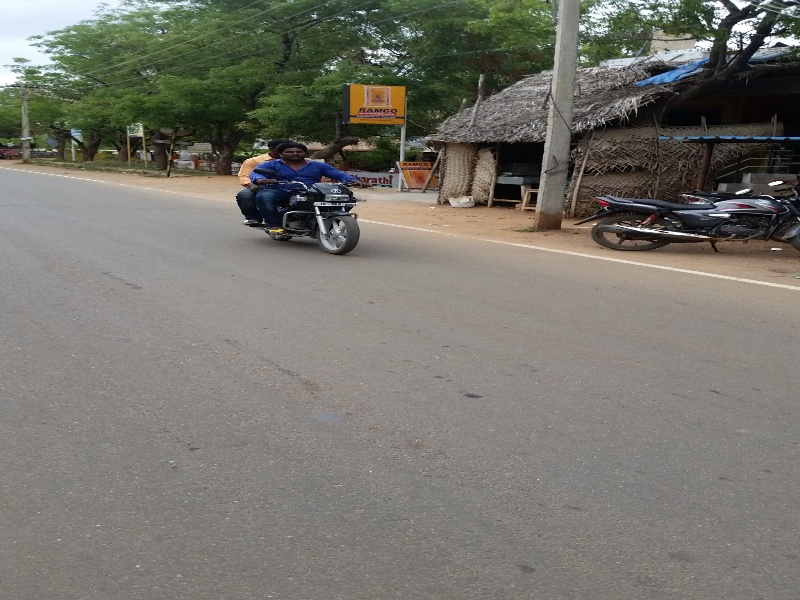biker: (221, 96, 384, 268)
nohelmet: (280, 144, 313, 167), (264, 136, 297, 159)
